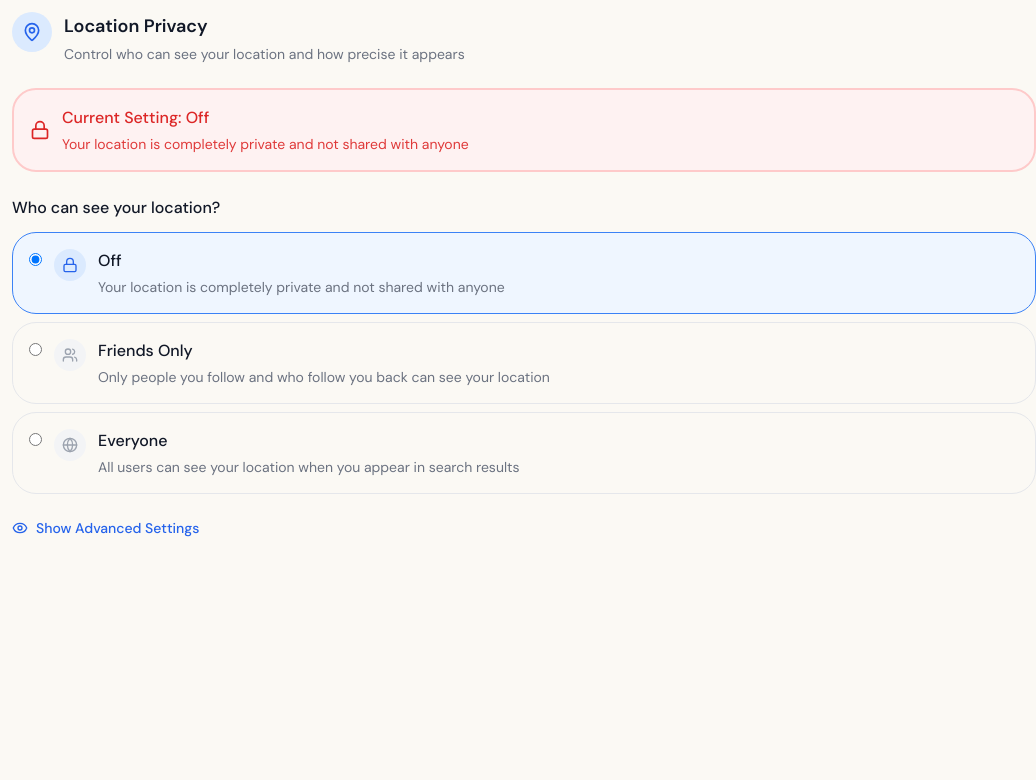
LocationSettings › shows precise location toggle only when sharing is enabled
Check: the text "Precise Location" is not shown
Step 1. Click the radio button labelled "Friends Only" → click(36, 350), box [29,343,42,356]
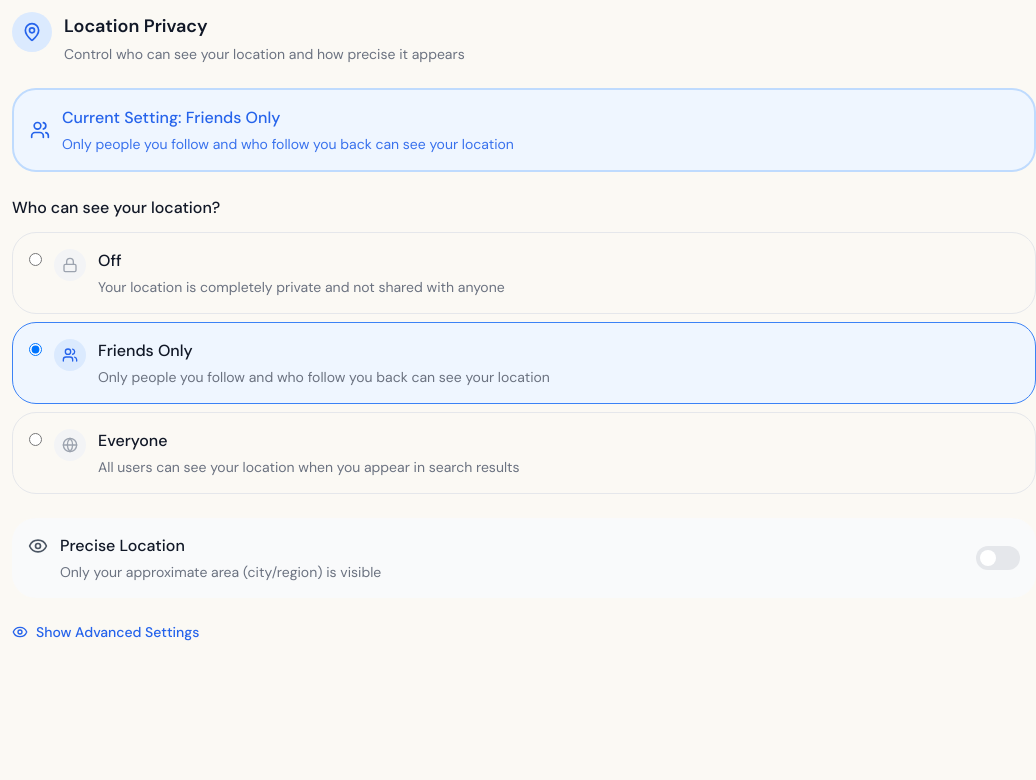
Check: the text "Precise Location" is shown, box [60,535,185,556]
